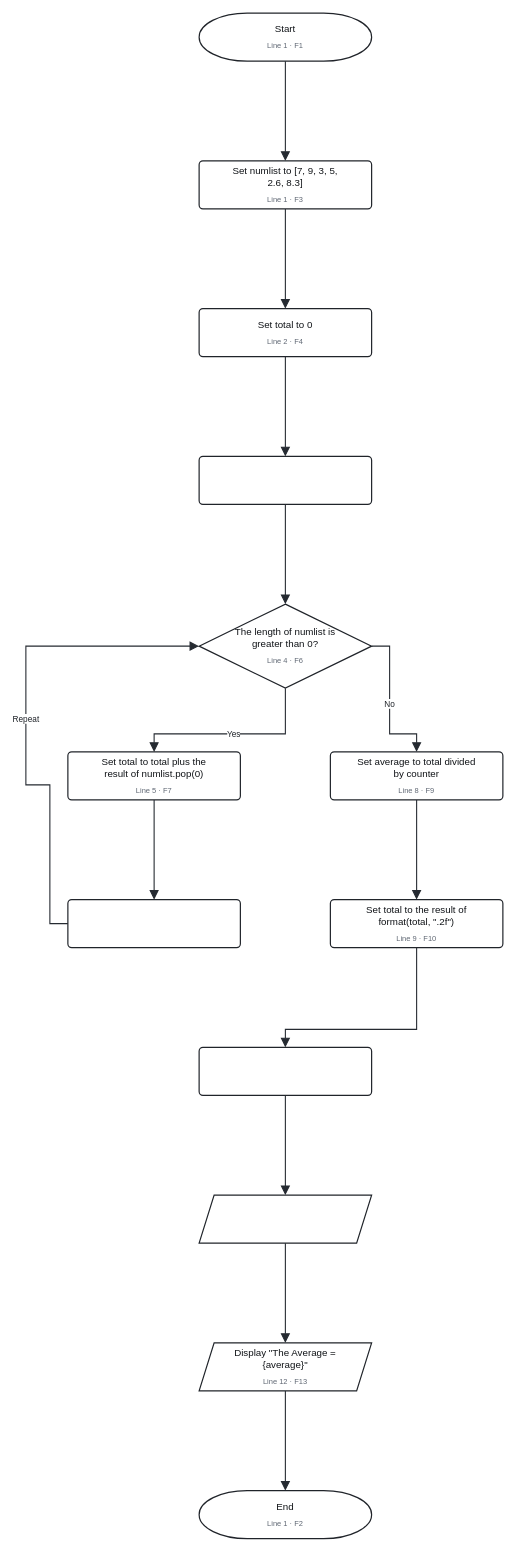
This 517x1553 diagram has some shape labels left out. The shapes that lost their labels are listed below. From the top down, each one's centre as x and y in pixels, then its label:
(285,480): Set counter to 0 Line 3 · F5
(154,923): Set counter to counter plus 1 Line 6 · F8
(285,1071): Set average to the result of format(average, ".2f") Line 10 · F11
(285,1218): Display "The Sum of Numbers in the list = {total}" Line 11 · F12
